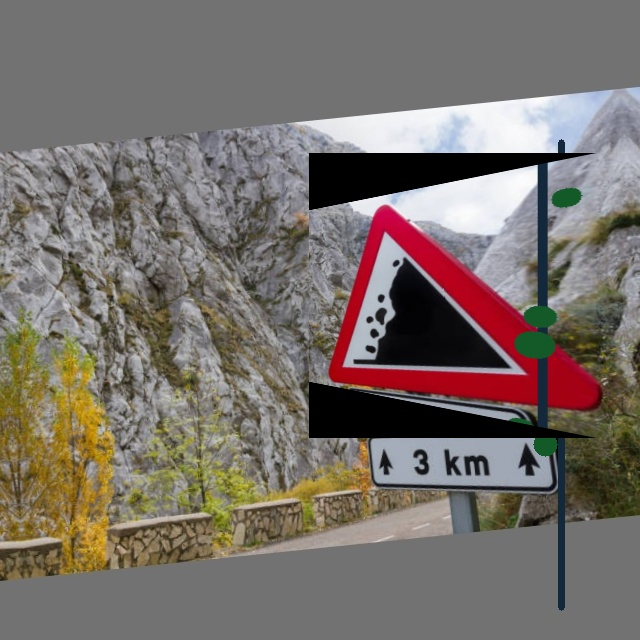Falling_Rocks: (309, 153, 597, 438)
